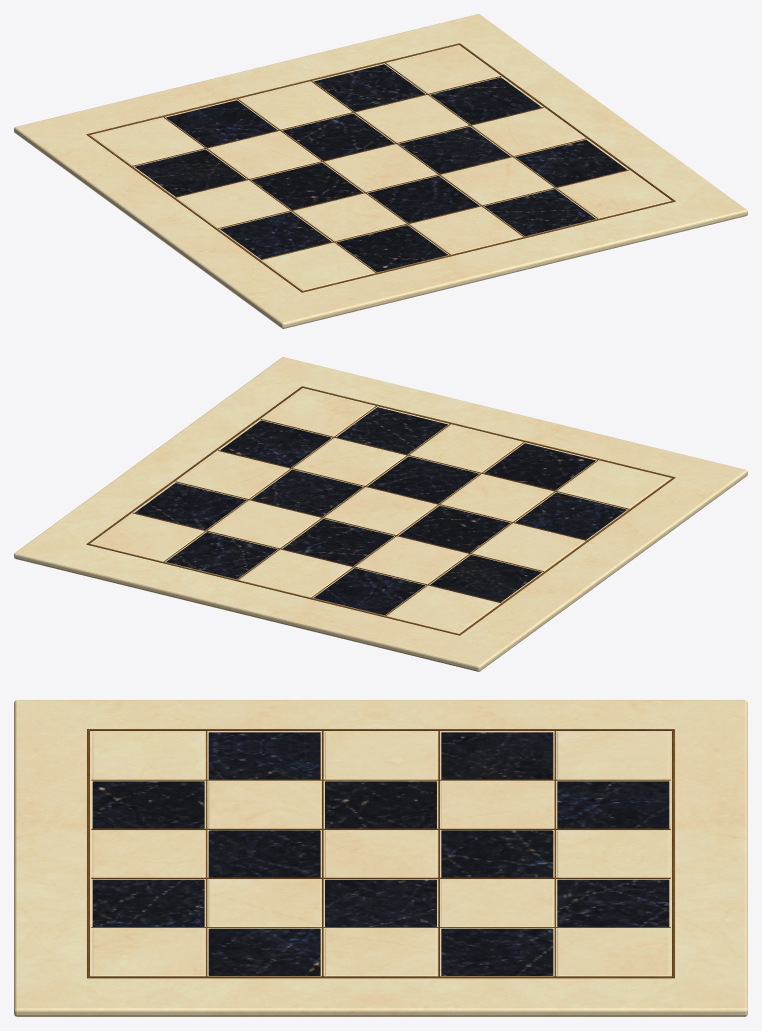
Rendered from queens_trial_board_no_star.glb.
3 views of the same model, one above another, from view 1: azimuth 30°, elevation 25°; view 2: azimuth 150°, elevation 25°; view 3: azimuth 270°, elevation 25° (orthographic). The views are drawn at different scales.
Visible parts, largest first — view 1: Estrutura_01, Casa_C01_L01, Casa_C03_L05, Casa_C01_L02, Casa_C01_L04, Casa_C02_L02, Casa_C03_L03, Casa_C04_L01, Casa_C04_L02, Casa_C04_L03, Casa_C04_L05, Casa_C05_L01 (+19 smaller); view 2: Estrutura_01, Casa_C01_L05, Casa_C03_L01, Casa_C01_L02, Casa_C01_L04, Casa_C02_L04, Casa_C03_L03, Casa_C04_L01, Casa_C04_L03, Casa_C04_L04, Casa_C04_L05, Casa_C05_L01 (+19 smaller); view 3: Estrutura_01, Casa_C01_L01, Casa_C01_L05, Casa_C02_L01, Casa_C02_L05, Casa_C03_L02, Casa_C03_L04, Casa_C04_L02, Casa_C04_L04, Casa_C01_L02, Casa_C01_L04, Casa_C02_L02 (+19 smaller).
Boxes of the visible parts, <box> form: Estrutura_01: <box>14,14,747,328</box>; Casa_C01_L01: <box>92,118,203,165</box>; Casa_C03_L05: <box>410,207,521,254</box>; Casa_C01_L02: <box>135,149,246,196</box>; Casa_C01_L04: <box>220,212,331,258</box>; Casa_C02_L02: <box>209,131,320,178</box>; Casa_C03_L03: <box>325,144,436,191</box>; Casa_C04_L01: <box>314,64,424,111</box>; Casa_C04_L02: <box>356,95,467,142</box>; Casa_C04_L03: <box>399,126,510,173</box>; Casa_C04_L05: <box>484,189,595,236</box>; Casa_C05_L01: <box>387,46,498,93</box>; Estrutura_01: <box>14,357,747,671</box>; Casa_C01_L05: <box>558,461,669,508</box>; Casa_C03_L01: <box>240,550,351,597</box>; Casa_C01_L02: <box>430,555,541,601</box>; Casa_C01_L04: <box>515,492,626,539</box>; Casa_C02_L04: <box>441,474,552,521</box>; Casa_C03_L03: <box>325,487,436,534</box>; Casa_C04_L01: <box>166,532,277,579</box>; Casa_C04_L03: <box>251,469,362,516</box>; Casa_C04_L04: <box>294,438,405,485</box>; Casa_C04_L05: <box>337,407,447,454</box>; Casa_C05_L01: <box>92,514,203,561</box>; Estrutura_01: <box>14,700,747,1016</box>; Casa_C01_L01: <box>557,732,669,779</box>; Casa_C01_L05: <box>92,732,204,779</box>; Casa_C02_L01: <box>557,781,669,828</box>; Casa_C02_L05: <box>92,781,204,828</box>; Casa_C03_L02: <box>441,830,553,877</box>; Casa_C03_L04: <box>208,830,320,877</box>; Casa_C04_L02: <box>441,879,553,926</box>; Casa_C04_L04: <box>208,879,320,926</box>; Casa_C01_L02: <box>441,732,553,779</box>; Casa_C01_L04: <box>208,732,320,779</box>; Casa_C02_L02: <box>441,781,553,828</box>.
Size of the model in its own units: 48 by 0.6975 by 48.
Materials: 1 (1 with a texture image).
